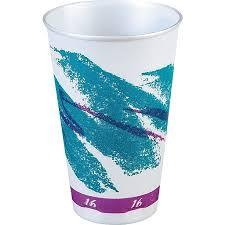Plastic cup: (27, 0, 211, 225)
